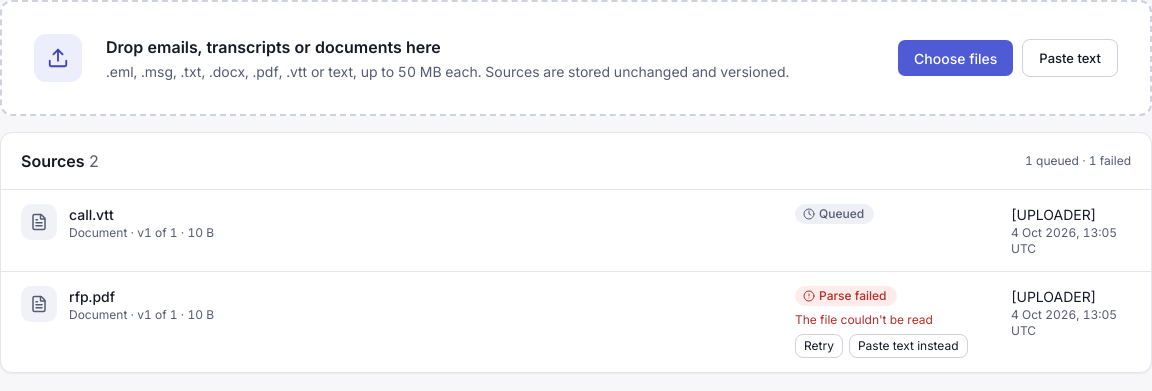
Test: SourcesSection parsing › a poll that started before a Retry can't put the failed row back
Click the button with aria-label "Retry: rfp.pdf" at (819, 346), box [795,334,843,358]
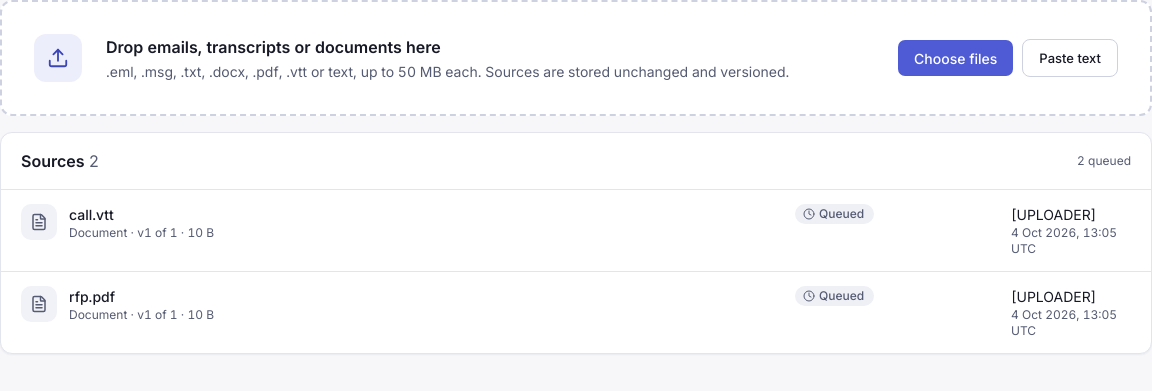
Now the text "Queued" is shown, box [795,286,874,306]
